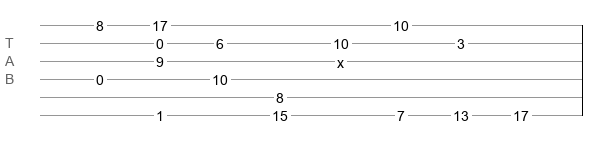0: (96, 72, 104, 82), (156, 36, 164, 46)
1: (156, 108, 164, 118)
10: (212, 72, 228, 82), (333, 36, 349, 46), (393, 18, 409, 28)
13: (453, 108, 469, 118)
15: (272, 108, 288, 118)
17: (152, 18, 168, 28), (513, 108, 529, 118)
3: (457, 36, 465, 46)
6: (216, 36, 224, 46)
7: (397, 108, 405, 118)
8: (96, 18, 104, 28), (276, 90, 284, 100)
9: (156, 54, 164, 64)
x: (337, 55, 344, 63)
